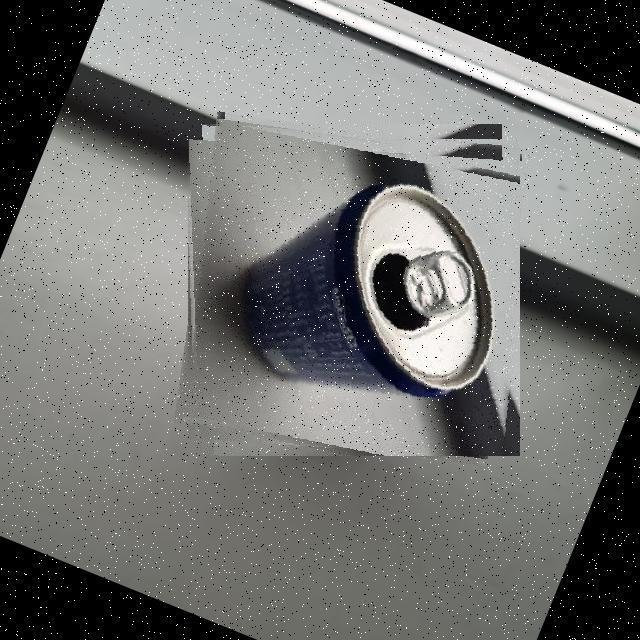recyclable: (184, 122, 520, 456)
